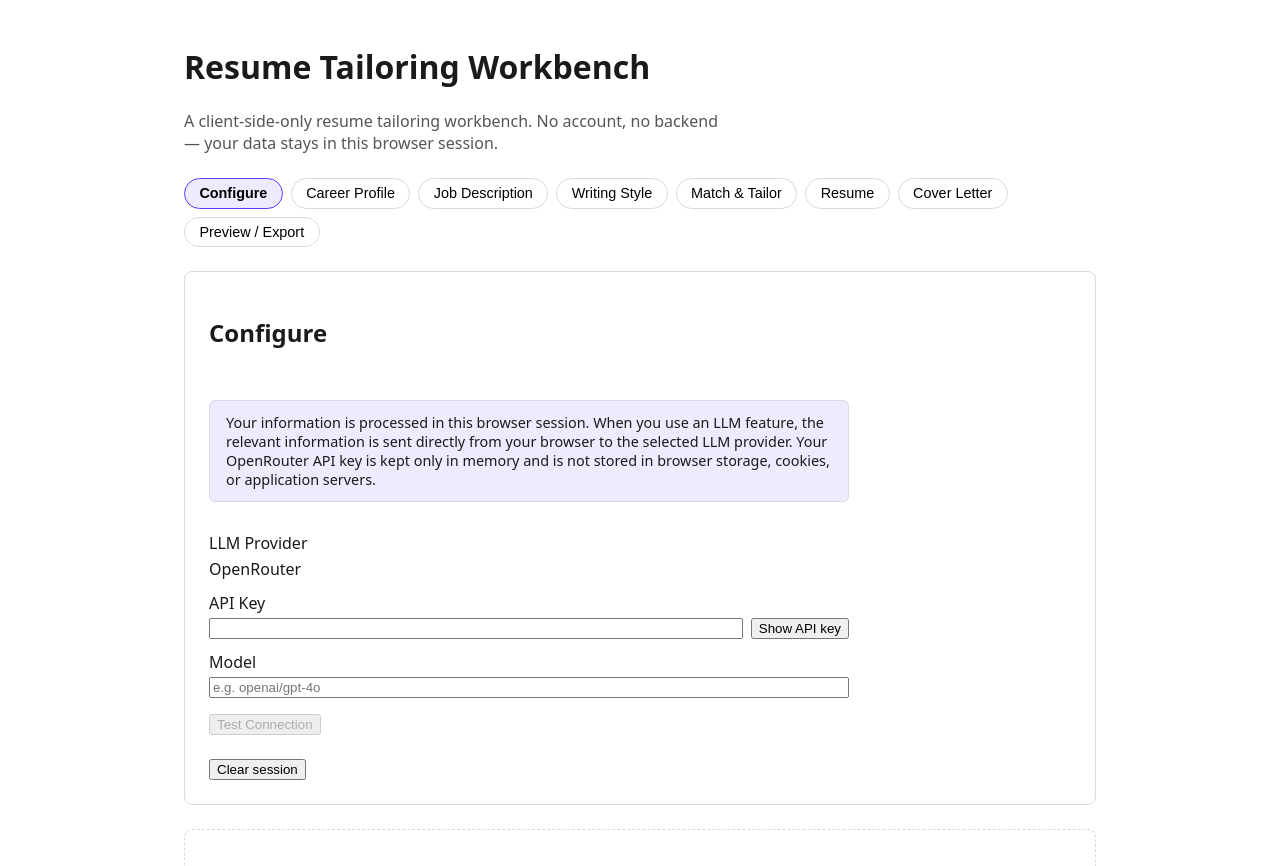
Test: Error handling and recovery (Stage 15) › Update API Key (from a step other than Configure) navigates to Configure and focuses the API key field
The image size is (1280, 866).
Step 1. Click the button "Configure" → [233, 193], box [184,178,283,209]
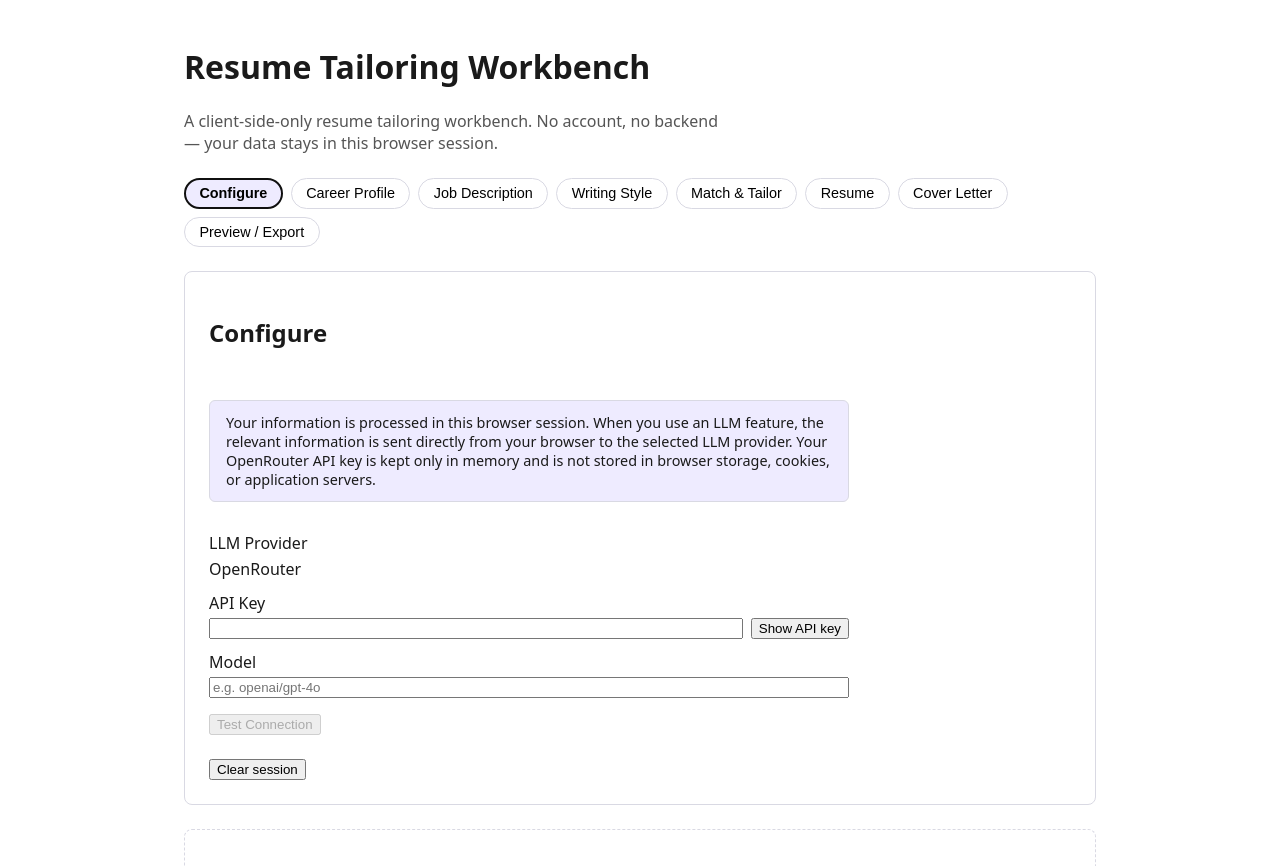
Step 2. Type "sk-test-super-secret-key-value" into the password field labelled "API Key" → [476, 628], box [209,618,743,639]
Step 3. Type "openai/gpt-4o" into the field labelled "Model" → [529, 688], box [209,677,849,698]
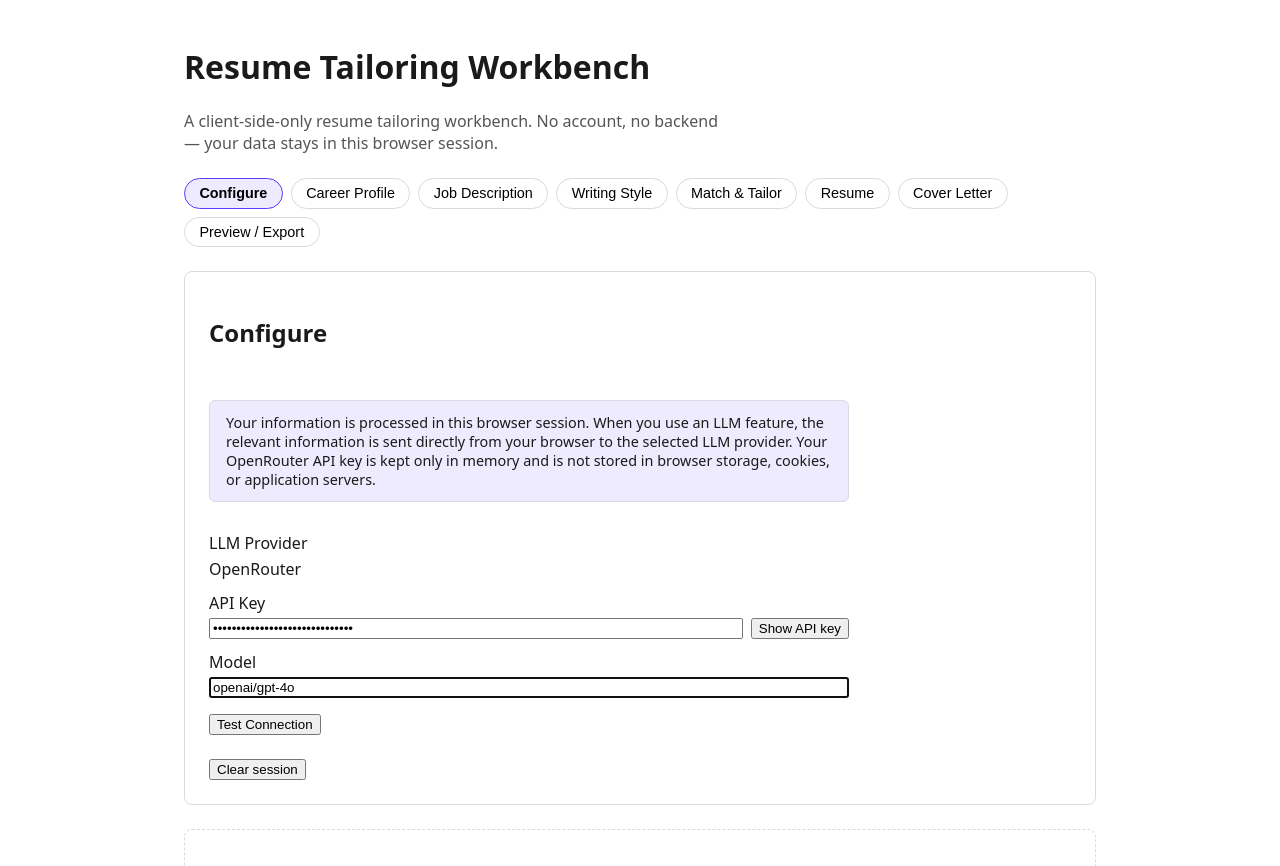
Step 4. Click the button "Career Profile" → [350, 193], box [291,178,410,209]
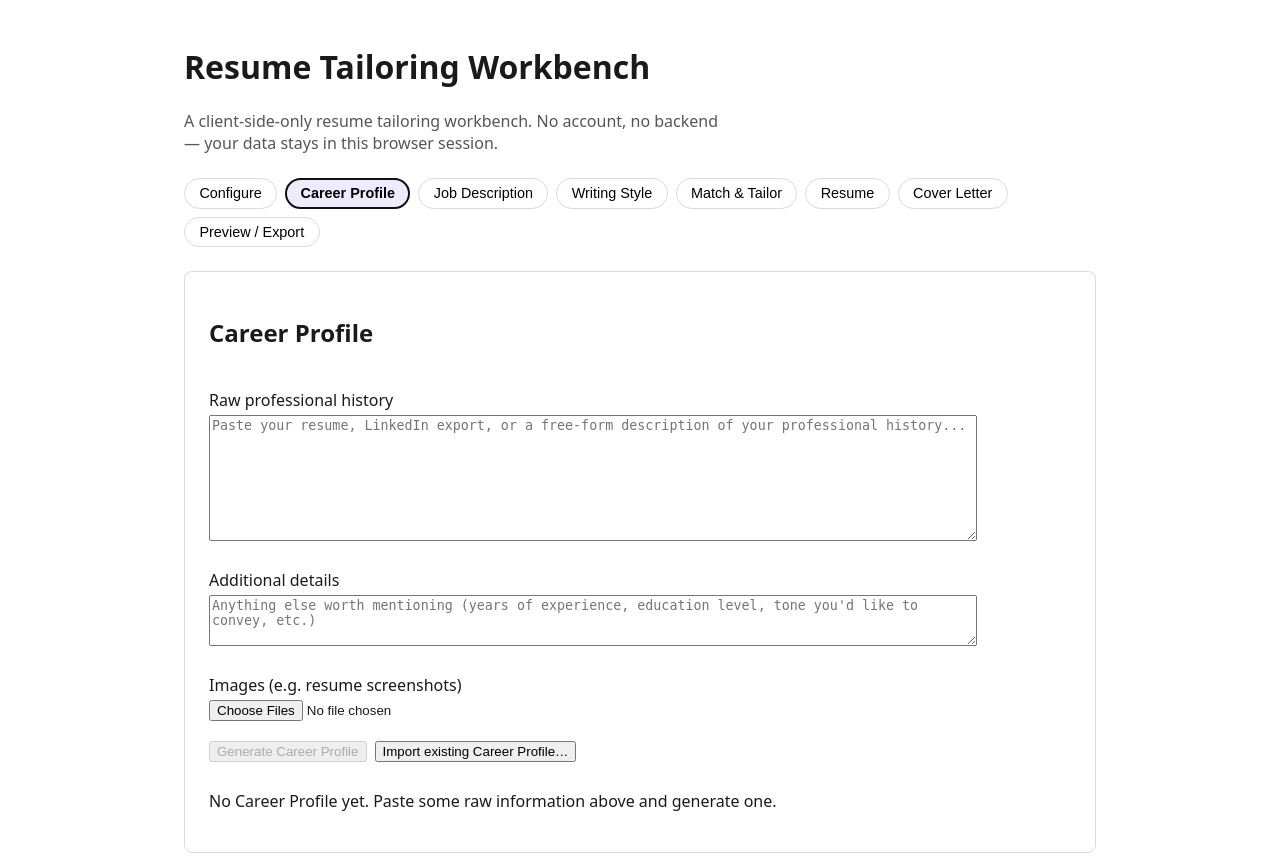
Step 5. Type "Some history." into the text box labelled "Raw professional history" → [593, 478], box [209,415,977,541]
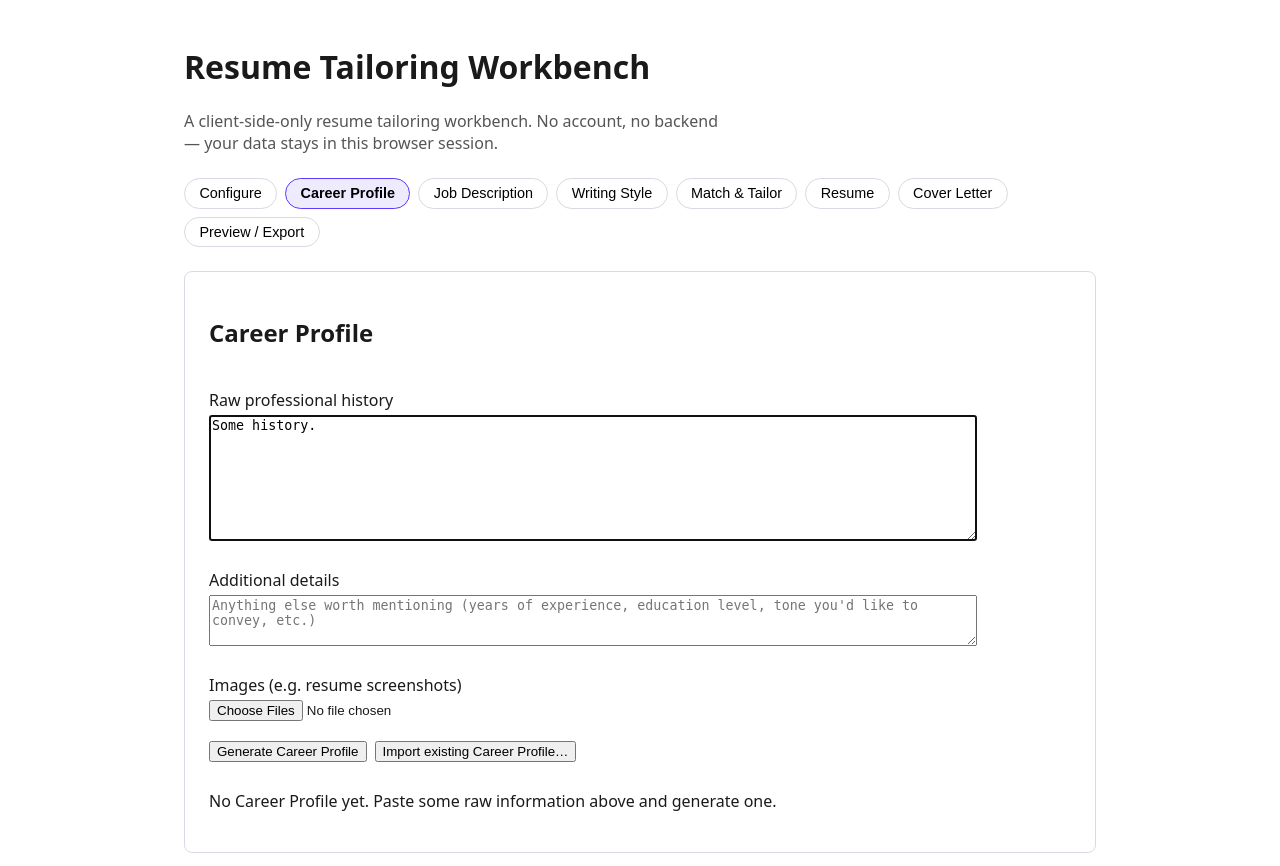
Step 6. Click the button "Generate Career Profile" → [288, 752], box [209,741,366,762]
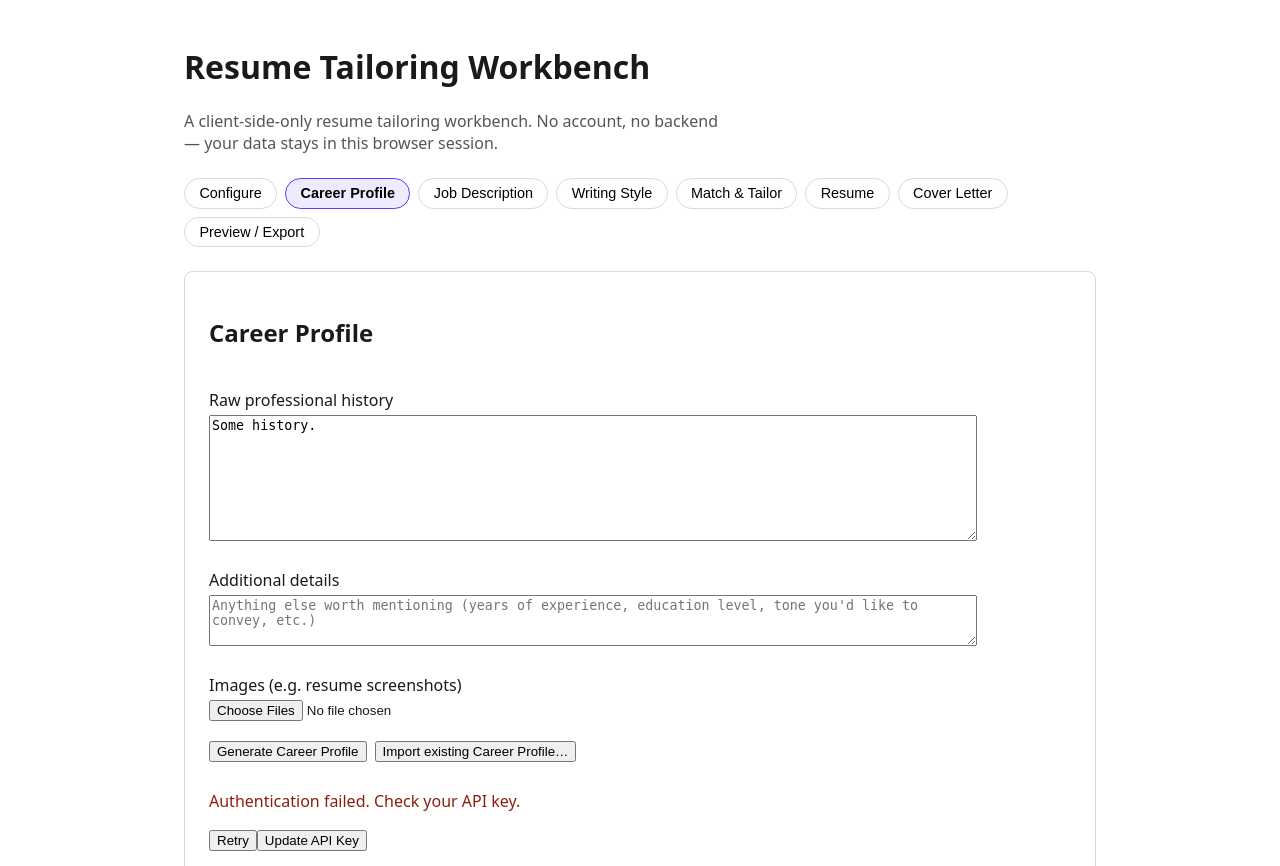
Expected: the message "Authentication failed. Check your API key. Retry Update API Key" is shown, [209,790,520,851]
Step 7. Click the button "Update API Key" → [312, 841], box [257,830,367,851]
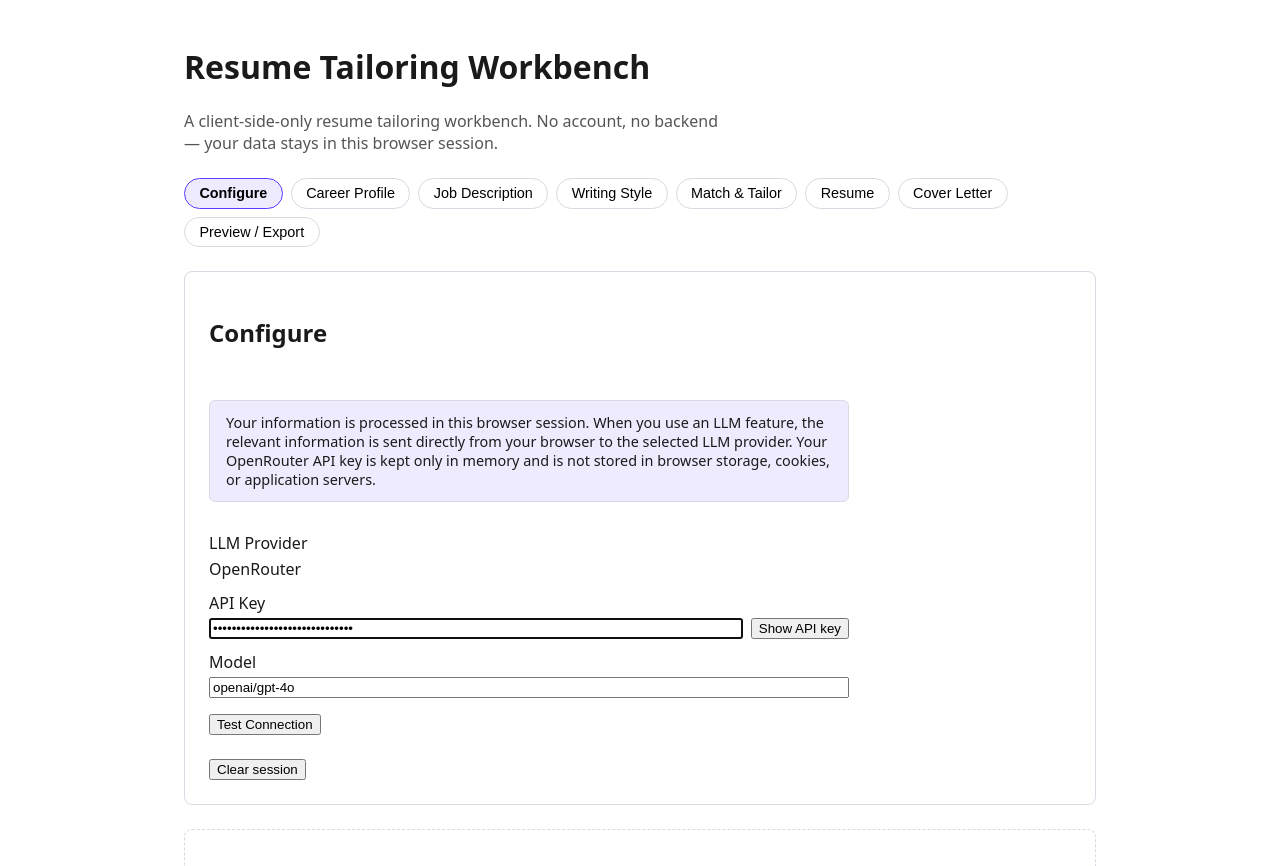
Expected: the heading "Configure" is shown, [209,316,327,349]
